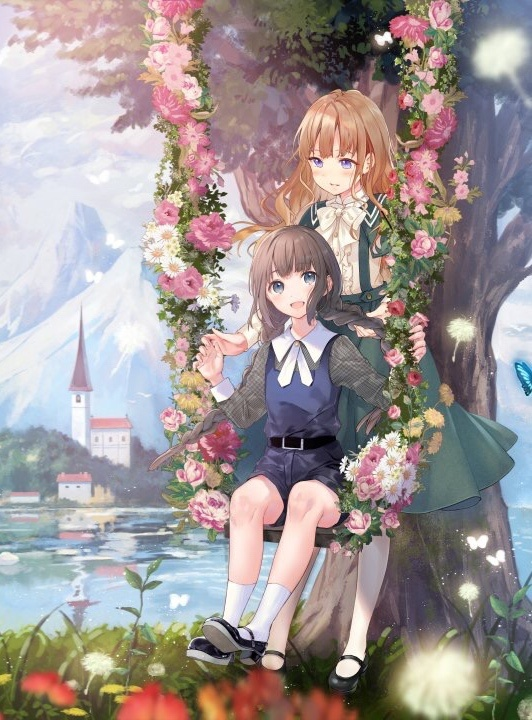纸片人正脸: (286, 87, 395, 200), (247, 223, 340, 325)
